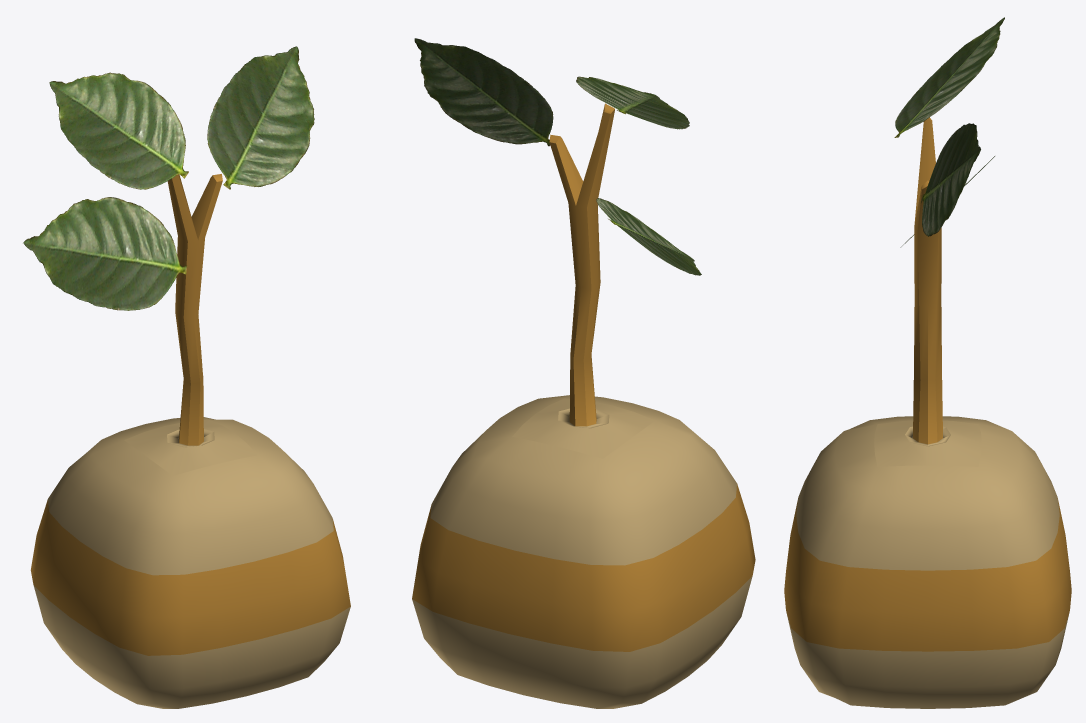
The model's file is md_sapling.fbx.
The picture shows the model from 3 angles, left to right: view 1: azimuth 30°, elevation 25°; view 2: azimuth 150°, elevation 25°; view 3: azimuth 270°, elevation 25°; orthographic projection. The views are drawn at different scales.
Parts seen in each view (by area): view 1: pCube2; view 2: pCube2; view 3: pCube2.
Boxes of the visible parts, box(x1,y1,x2,y2) form: pCube2: box(23, 46, 350, 708); pCube2: box(412, 38, 755, 708); pCube2: box(784, 17, 1071, 708).
Bounding box in the file's own units: 0.2687 × 0.4746 × 0.1955.
